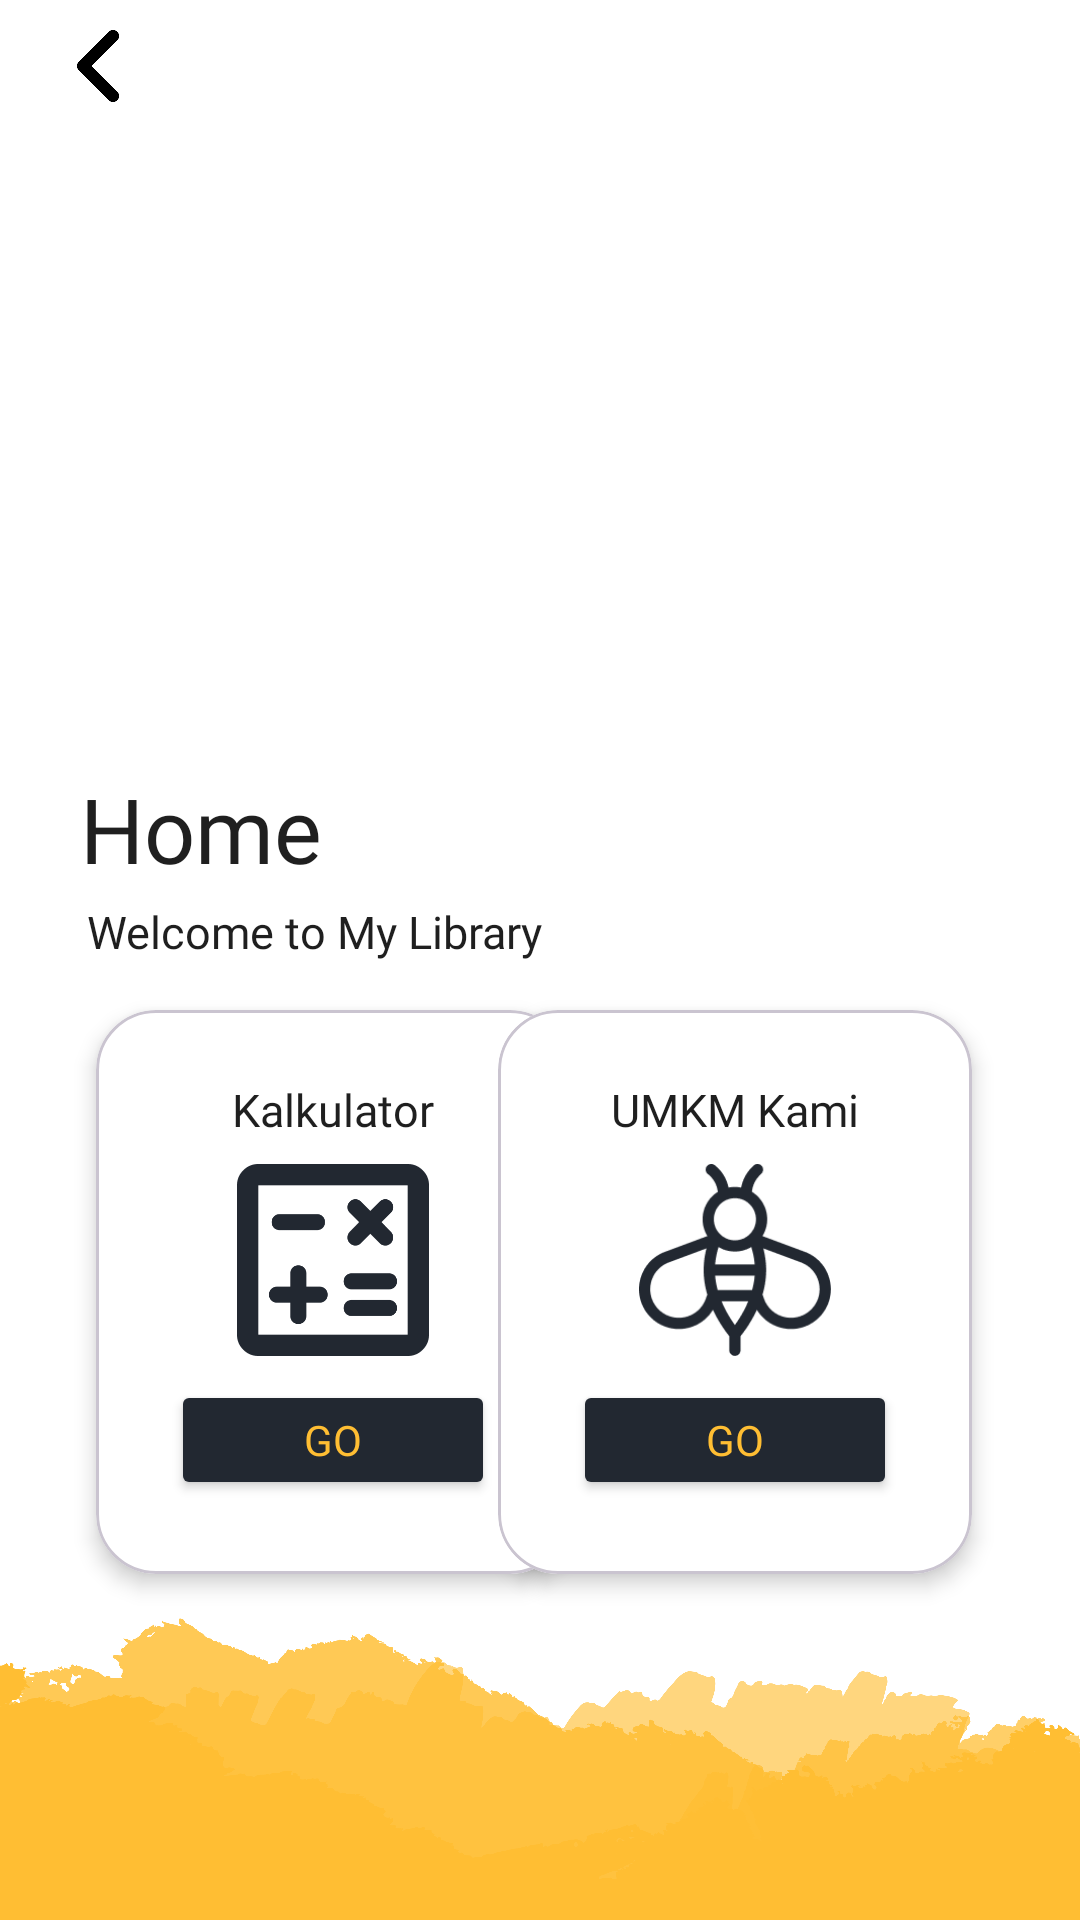

Screen size 1080 × 1920. Icon name, then its box in pixels as (x1, y1, x2, y2):
back: (77, 30, 119, 102)
bee: (639, 1164, 831, 1356)
